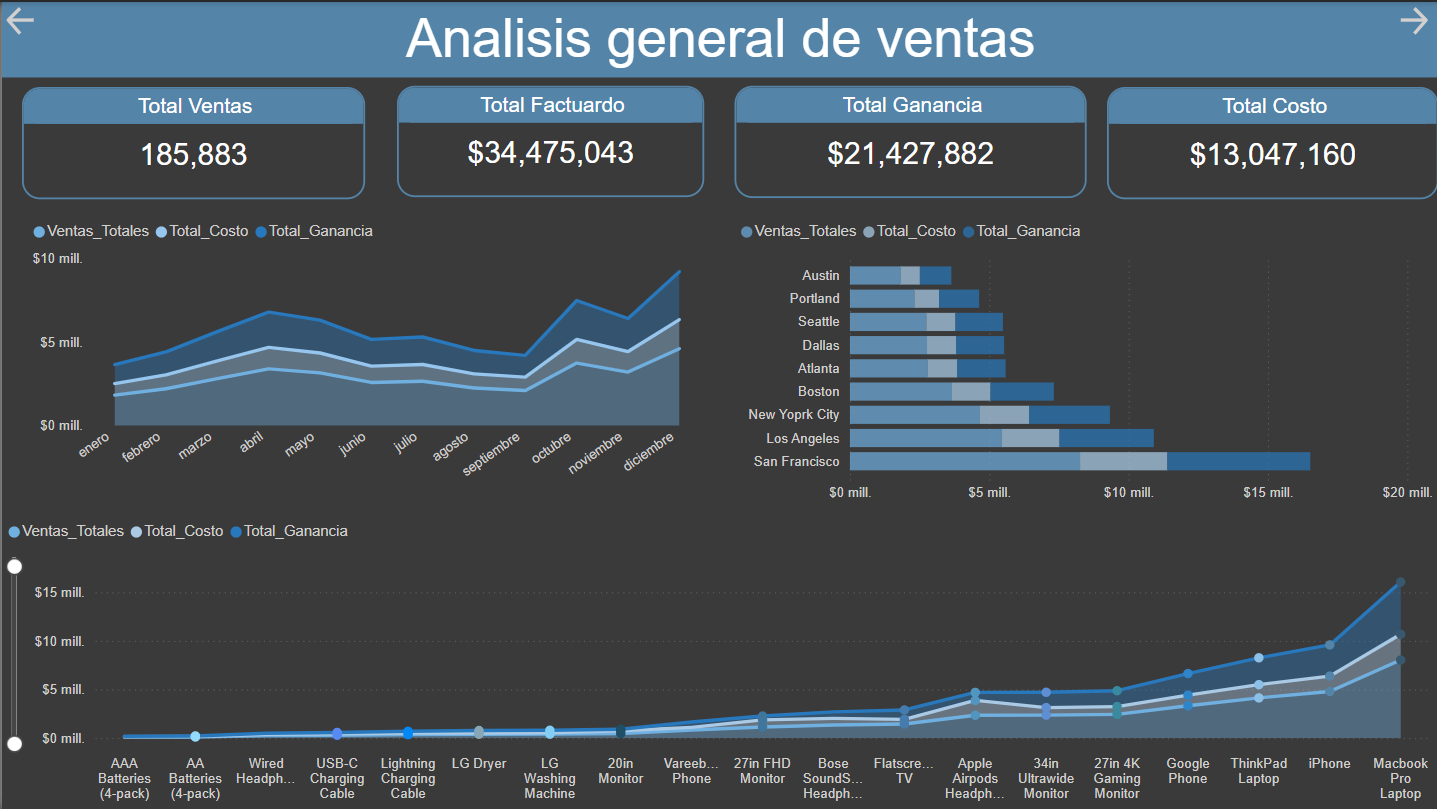

What the dashboard file says about the page in this screenshot:
{"tool":"powerbi","page":{"name":"Analisis_Gral","canvas":[1280,720],"ordinal":1},"visuals":[{"type":"card","title":"Total Ganancia","fields":{"Values":["Medidas.Total_Ganancia"]},"box":[652.7,74.8,313.7,100.1],"z":0},{"type":"card","title":"Total Costo","fields":{"Values":["Medidas.Total_Costo"]},"box":[984.5,76,295.6,100.1],"z":1000},{"type":"textbox","box":[0,0,1280,67.6],"z":2000},{"type":"card","title":"Total Ventas","fields":{"Values":["Medidas.Cantidad_de_Ventas"]},"box":[18.1,76,305.2,100.1],"z":3000},{"type":"card","title":"Total Factuardo","fields":{"Values":["Medidas.Ventas_Totales"]},"box":[352.3,74.8,273.9,98.9],"z":4000},{"type":"stackedAreaChart","title":"Ganancia mensual","fields":{"Category":["Tabla_Calendario.Mes (nombre)"],"Y":["Medidas.Ventas_Totales","Medidas.Total_Costo","Medidas.Total_Ganancia"]},"box":[21.7,184.6,604.4,259.4],"z":5000},{"type":"barChart","title":"Venta anual por ciudad","fields":{"Y":["Medidas.Ventas_Totales","Medidas.Total_Costo","Medidas.Total_Ganancia"],"Category":["Ciudad.Nombre_ciudad"]},"box":[652.7,184.6,627.3,267.8],"z":6000},{"type":"stackedAreaChart","title":"Ventas por articulo","fields":{"Category":["Orden_de_compra.Producto"],"Y":["Medidas.Ventas_Totales","Medidas.Total_Costo","Medidas.Total_Ganancia"]},"box":[0,452.4,1280,267.8],"z":7000},{"type":"actionButton","box":[1240.2,0,39.8,33.8],"z":8000},{"type":"actionButton","box":[0,0,33.8,33.8],"z":9000}]}

Visuals, with their boxes in screenshot pixels (x1, y1, x2, y2), scaled from the page's 1280x720 canvas onto the 1437x809 screenshot:
"Total Ganancia" card: (733, 84, 1085, 197)
"Total Costo" card: (1105, 85, 1436, 198)
textbox: (0, 0, 1436, 76)
"Total Ventas" card: (20, 85, 363, 198)
"Total Factuardo" card: (396, 84, 703, 195)
"Ganancia mensual" stackedAreaChart: (24, 207, 703, 499)
"Venta anual por ciudad" barChart: (733, 207, 1436, 508)
"Ventas por articulo" stackedAreaChart: (0, 508, 1436, 808)
actionButton: (1392, 0, 1436, 38)
actionButton: (0, 0, 38, 38)
